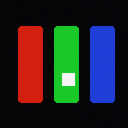1 square: (62, 73, 74, 85)
